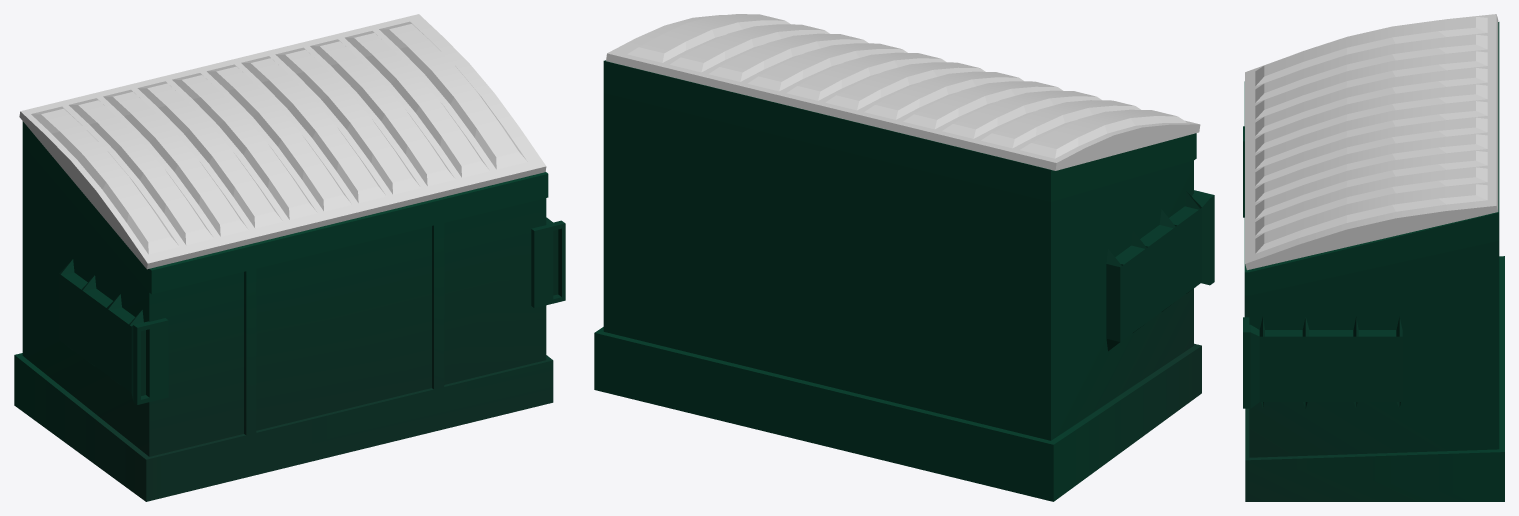
File: Dumpster.FBX
3 renders of one model, left to right at view 1: azimuth 30°, elevation 25°; view 2: azimuth 150°, elevation 25°; view 3: azimuth 270°, elevation 25°, orthographic. The views are drawn at different scales.
Visible parts, largest first — view 1: Dumpster, DumpsterLid; view 2: Dumpster, DumpsterLid; view 3: Dumpster, DumpsterLid.
Part boxes in pixels (x1,y1,x2,y2): Dumpster: (14, 121, 565, 501); DumpsterLid: (19, 14, 546, 269); Dumpster: (594, 60, 1214, 501); DumpsterLid: (606, 14, 1200, 170); Dumpster: (1243, 22, 1504, 501); DumpsterLid: (1245, 14, 1498, 270).
Bounding box in the file's own units: 39.42 × 26.33 × 21.18.
